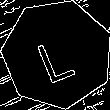L_N: (33, 25, 81, 83)
